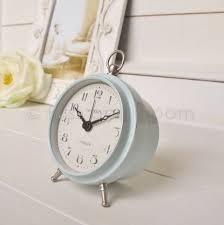alarm_clock: (52, 60, 161, 204)
